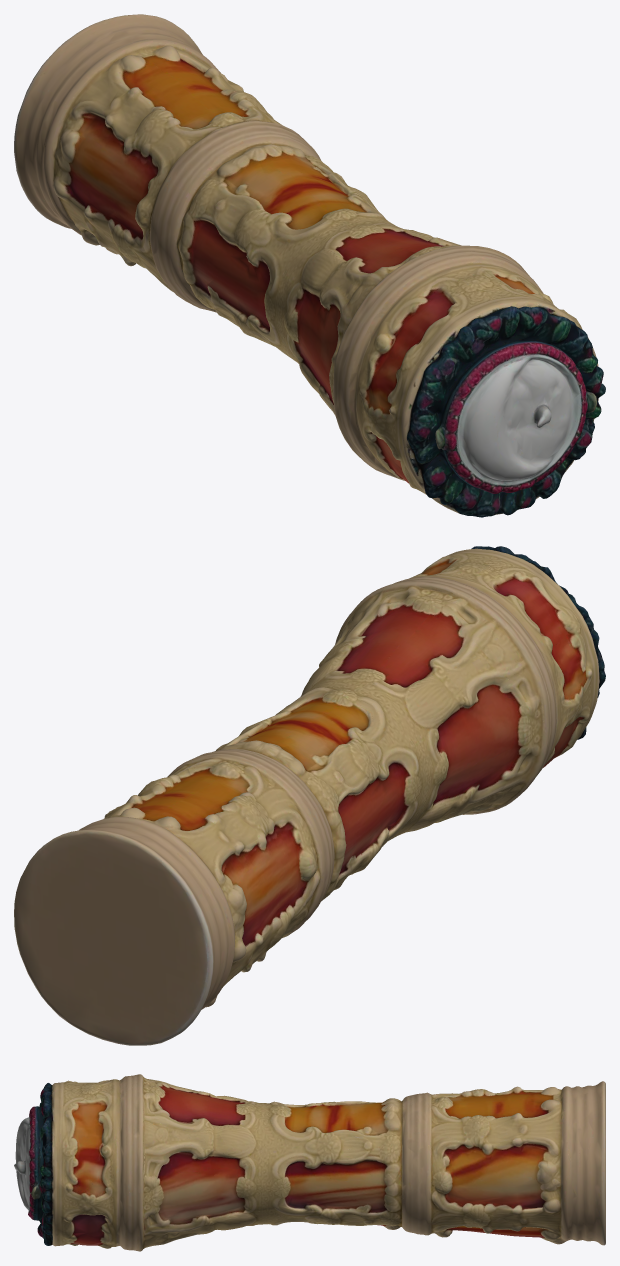
File: 铜镀金饰玛瑙望远镜式表.glb
The picture shows the model from 3 angles, top to bottom: view 1: azimuth 30°, elevation 25°; view 2: azimuth 150°, elevation 25°; view 3: azimuth 270°, elevation 25°; orthographic projection. The views are drawn at different scales.
Visible parts, largest first — view 1: tripo_node_133379b1; view 2: tripo_node_133379b1; view 3: tripo_node_133379b1.
Boxes of the visible parts, x1=… form: tripo_node_133379b1: x1=14, y1=14, x2=605, y2=517; tripo_node_133379b1: x1=14, y1=546, x2=605, y2=1045; tripo_node_133379b1: x1=14, y1=1074, x2=605, y2=1251.
Size of the model in its own units: 28.91 by 29.17 by 97.41.
1 material, 1 textured.
